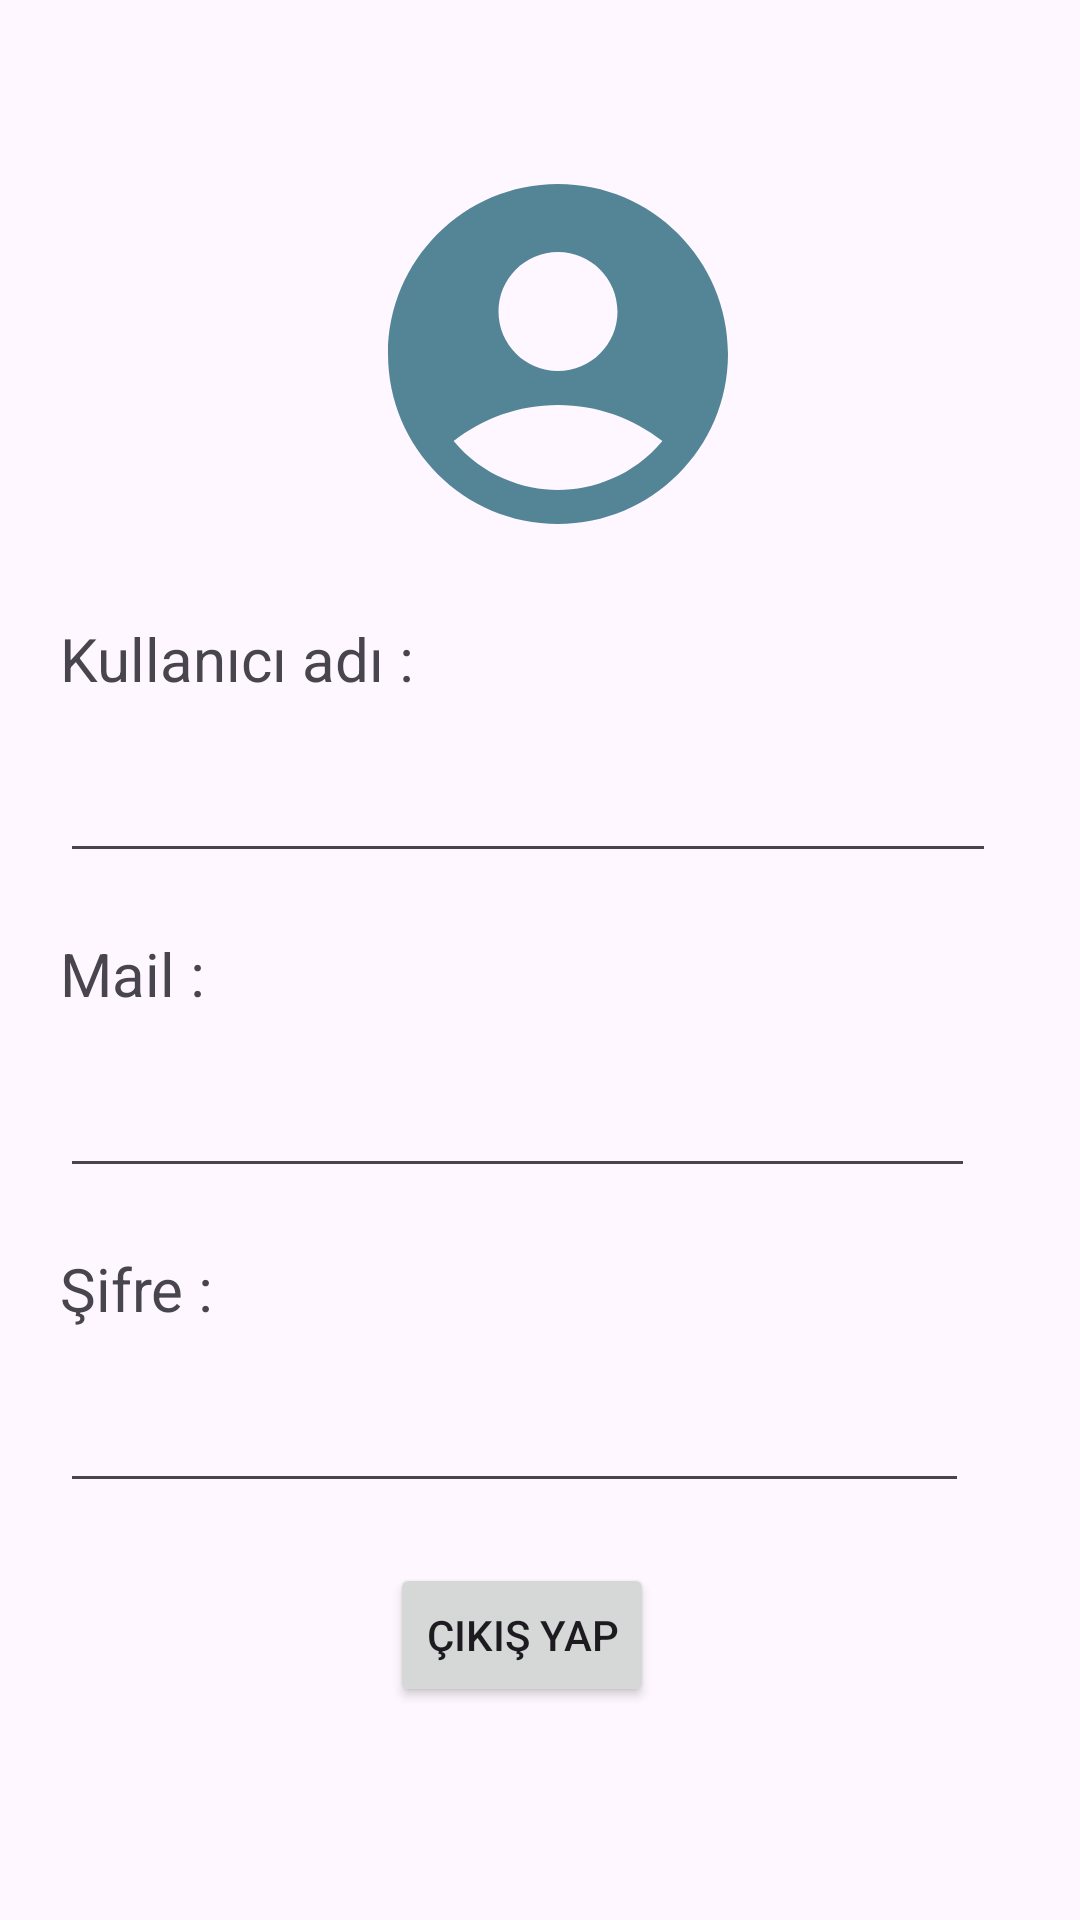

Icon bounding boxes for this 1080*1920 phone screenshot, format (x1, y1, x2, y2):
account circle: (388, 184, 728, 524)
